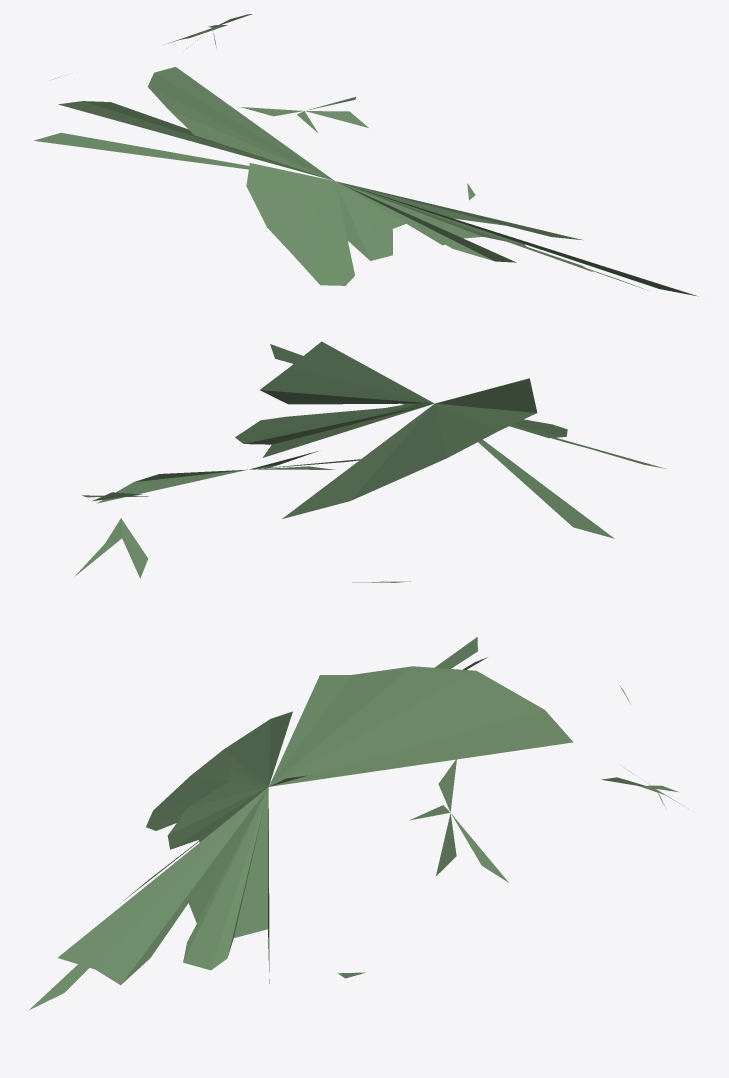
The model's file is c_1668_17816_forest.glb.
The picture shows the model from 3 angles, top to bottom: view 1: azimuth 30°, elevation 25°; view 2: azimuth 150°, elevation 25°; view 3: azimuth 270°, elevation 25°; orthographic projection. The views are drawn at different scales.
Visible parts, largest first — view 1: geometry_0; view 2: geometry_0; view 3: geometry_0.
Part boxes in pixels (bbox=[...]): geometry_0: bbox=[33, 14, 697, 296]; geometry_0: bbox=[74, 341, 665, 582]; geometry_0: bbox=[29, 637, 684, 1009].
Size of the model in its own units: 342 by 108 by 364.
